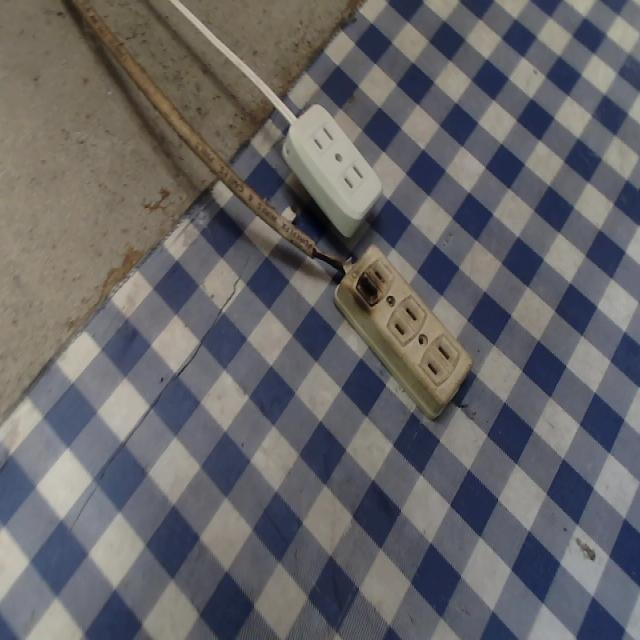-: (348, 263, 385, 316)
